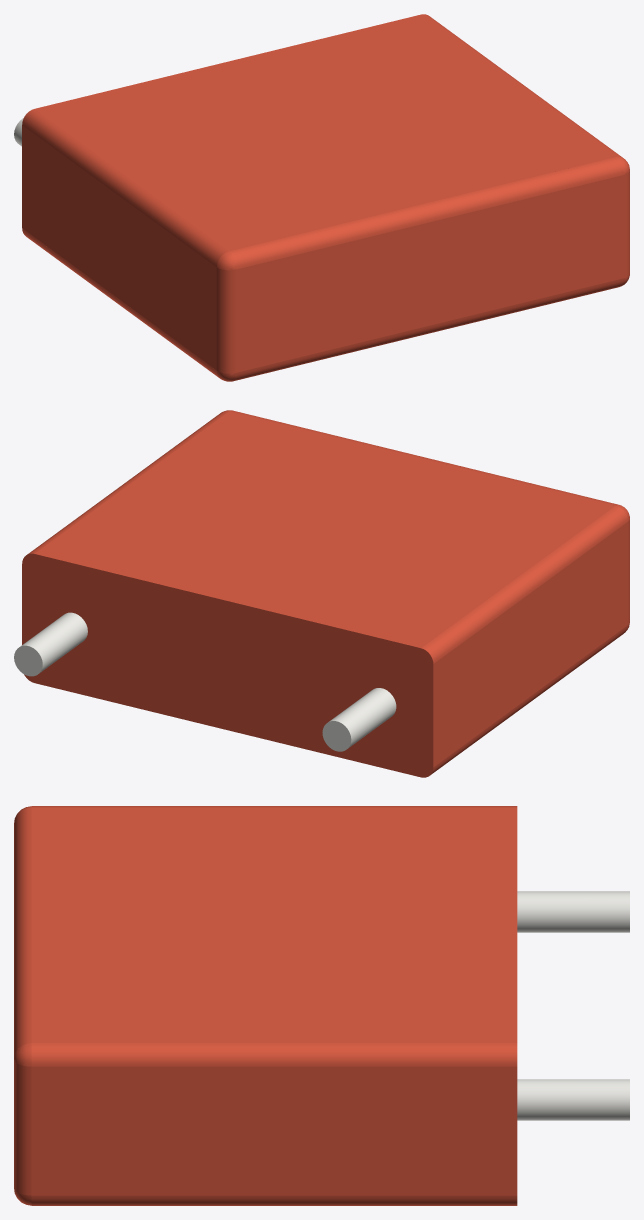
The model's file is C_Rect_L10.0mm_W3.0mm_P7.50mm_FKS3_FKP3.glb.
3 renders of one model, top to bottom at view 1: azimuth 30°, elevation 25°; view 2: azimuth 150°, elevation 25°; view 3: azimuth 270°, elevation 25°, orthographic. The views are drawn at different scales.
Visible parts, largest first — view 1: Shape_IndexedFaceSet.009, Shape_IndexedFaceSet.008, Shape_IndexedFaceSet, Shape_IndexedFaceSet.016, Shape_IndexedFaceSet.004, Shape_IndexedFaceSet.015, Shape_IndexedFaceSet.002, Shape_IndexedFaceSet.001, Shape_IndexedFaceSet.011, Shape_IndexedFaceSet.017; view 2: Shape_IndexedFaceSet.009, Shape_IndexedFaceSet.003, Shape_IndexedFaceSet, Shape_IndexedFaceSet.004, Shape_IndexedFaceSet.014, Shape_IndexedFaceSet.013, Shape_IndexedFaceSet.001, Shape_IndexedFaceSet.011, Shape_IndexedFaceSet.016, Shape_IndexedFaceSet.021, Shape_IndexedFaceSet.020; view 3: Shape_IndexedFaceSet.009, Shape_IndexedFaceSet.012, Shape_IndexedFaceSet.011, Shape_IndexedFaceSet.010, Shape_IndexedFaceSet.013, Shape_IndexedFaceSet.014, Shape_IndexedFaceSet.016, Shape_IndexedFaceSet.017, Shape_IndexedFaceSet.004.
Boxes of the visible parts, x1=… form: Shape_IndexedFaceSet.009: x1=35, y1=14, x2=615, y2=251; Shape_IndexedFaceSet.008: x1=236, y1=175, x2=622, y2=372; Shape_IndexedFaceSet: x1=22, y1=125, x2=216, y2=369; Shape_IndexedFaceSet.016: x1=229, y1=157, x2=622, y2=269; Shape_IndexedFaceSet.004: x1=22, y1=109, x2=228, y2=266; Shape_IndexedFaceSet.015: x1=233, y1=278, x2=622, y2=381; Shape_IndexedFaceSet.002: x1=216, y1=267, x2=236, y2=373; Shape_IndexedFaceSet.001: x1=22, y1=228, x2=218, y2=377; Shape_IndexedFaceSet.011: x1=421, y1=14, x2=622, y2=157; Shape_IndexedFaceSet.017: x1=623, y1=171, x2=629, y2=278; Shape_IndexedFaceSet.009: x1=35, y1=411, x2=615, y2=647; Shape_IndexedFaceSet.003: x1=22, y1=553, x2=433, y2=777; Shape_IndexedFaceSet: x1=433, y1=522, x2=627, y2=766; Shape_IndexedFaceSet.004: x1=421, y1=506, x2=627, y2=663; Shape_IndexedFaceSet.014: x1=20, y1=612, x2=87, y2=672; Shape_IndexedFaceSet.013: x1=329, y1=688, x2=396, y2=748; Shape_IndexedFaceSet.001: x1=430, y1=625, x2=627, y2=775; Shape_IndexedFaceSet.011: x1=27, y1=411, x2=228, y2=554; Shape_IndexedFaceSet.016: x1=229, y1=410, x2=617, y2=505; Shape_IndexedFaceSet.021: x1=14, y1=645, x2=42, y2=676; Shape_IndexedFaceSet.020: x1=322, y1=721, x2=351, y2=751; Shape_IndexedFaceSet.009: x1=31, y1=807, x2=517, y2=1042; Shape_IndexedFaceSet.012: x1=31, y1=1066, x2=517, y2=1195; Shape_IndexedFaceSet.011: x1=31, y1=1043, x2=517, y2=1066; Shape_IndexedFaceSet.010: x1=31, y1=1195, x2=517, y2=1205; Shape_IndexedFaceSet.013: x1=517, y1=891, x2=629, y2=932; Shape_IndexedFaceSet.014: x1=517, y1=1079, x2=629, y2=1120; Shape_IndexedFaceSet.016: x1=14, y1=807, x2=31, y2=1057; Shape_IndexedFaceSet.017: x1=14, y1=1060, x2=31, y2=1195; Shape_IndexedFaceSet.004: x1=31, y1=806, x2=517, y2=807.
Bounding box in the file's own units: 3.94 × 1.18 × 4.09.
